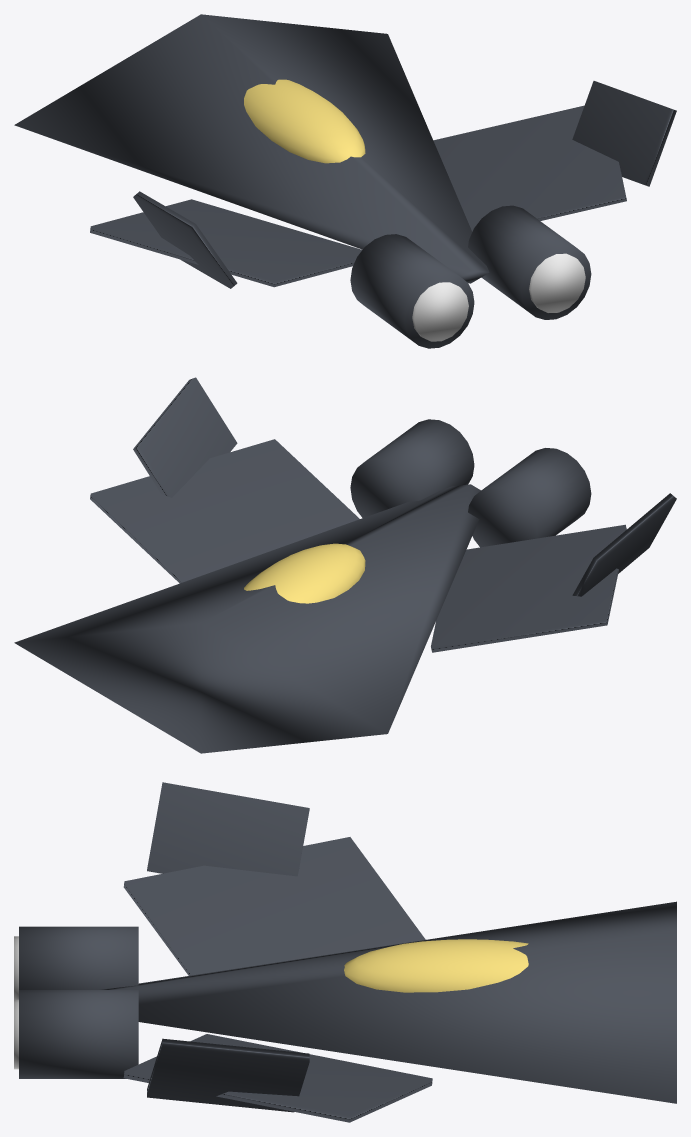
File: Sol_Scout_Ship.fbx
The picture shows the model from 3 angles, top to bottom: view 1: azimuth 30°, elevation 25°; view 2: azimuth 150°, elevation 25°; view 3: azimuth 270°, elevation 25°; orthographic projection. The views are drawn at different scales.
Parts seen in each view (by area): view 1: Scout_Fuselage, Scout_Wing_Starboard, Scout_Wing_Port, Scout_Nozzle_Port, Scout_Nozzle_Starboard, Scout_Canopy, Scout_Winglet_Starboard, Scout_Winglet_Port, Scout_Exhaust_Port, Scout_Exhaust_Starboard; view 2: Scout_Fuselage, Scout_Wing_Starboard, Scout_Wing_Port, Scout_Nozzle_Port, Scout_Nozzle_Starboard, Scout_Winglet_Starboard, Scout_Canopy, Scout_Winglet_Port; view 3: Scout_Fuselage, Scout_Wing_Port, Scout_Winglet_Port, Scout_Nozzle_Starboard, Scout_Winglet_Starboard, Scout_Canopy, Scout_Wing_Starboard, Scout_Nozzle_Port.
Part boxes in pixels (left/top/right/bottom): Scout_Fuselage: left=14, top=14, right=489, bottom=283; Scout_Wing_Starboard: left=433, top=105, right=626, bottom=231; Scout_Wing_Port: left=90, top=199, right=361, bottom=287; Scout_Nozzle_Port: left=350, top=234, right=474, bottom=348; Scout_Nozzle_Starboard: left=468, top=205, right=591, bottom=319; Scout_Canopy: left=244, top=79, right=365, bottom=163; Scout_Winglet_Starboard: left=572, top=81, right=676, bottom=186; Scout_Winglet_Port: left=133, top=191, right=237, bottom=288; Scout_Exhaust_Port: left=412, top=282, right=468, bottom=341; Scout_Exhaust_Starboard: left=529, top=253, right=585, bottom=312; Scout_Fuselage: left=14, top=484, right=480, bottom=753; Scout_Wing_Starboard: left=90, top=439, right=359, bottom=583; Scout_Wing_Port: left=431, top=524, right=626, bottom=652; Scout_Nozzle_Port: left=468, top=448, right=591, bottom=547; Scout_Nozzle_Starboard: left=350, top=419, right=474, bottom=517; Scout_Winglet_Starboard: left=133, top=377, right=237, bottom=497; Scout_Canopy: left=244, top=543, right=365, bottom=603; Scout_Winglet_Port: left=572, top=493, right=676, bottom=596; Scout_Fuselage: left=98, top=901, right=676, bottom=1103; Scout_Wing_Port: left=123, top=837, right=425, bottom=975; Scout_Winglet_Port: left=147, top=782, right=309, bottom=876; Scout_Nozzle_Starboard: left=19, top=990, right=138, bottom=1078; Scout_Winglet_Starboard: left=147, top=1038, right=309, bottom=1112; Scout_Canopy: left=344, top=939, right=528, bottom=992; Scout_Wing_Starboard: left=123, top=1034, right=432, bottom=1122; Scout_Nozzle_Port: left=19, top=926, right=138, bottom=989.
Bounding box in the file's own units: 1329 × 364 × 1330.
